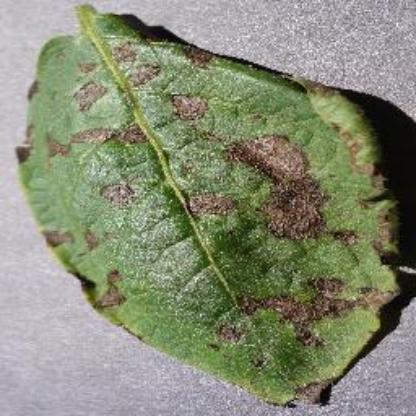Early-Blight: (17, 5, 403, 407)
